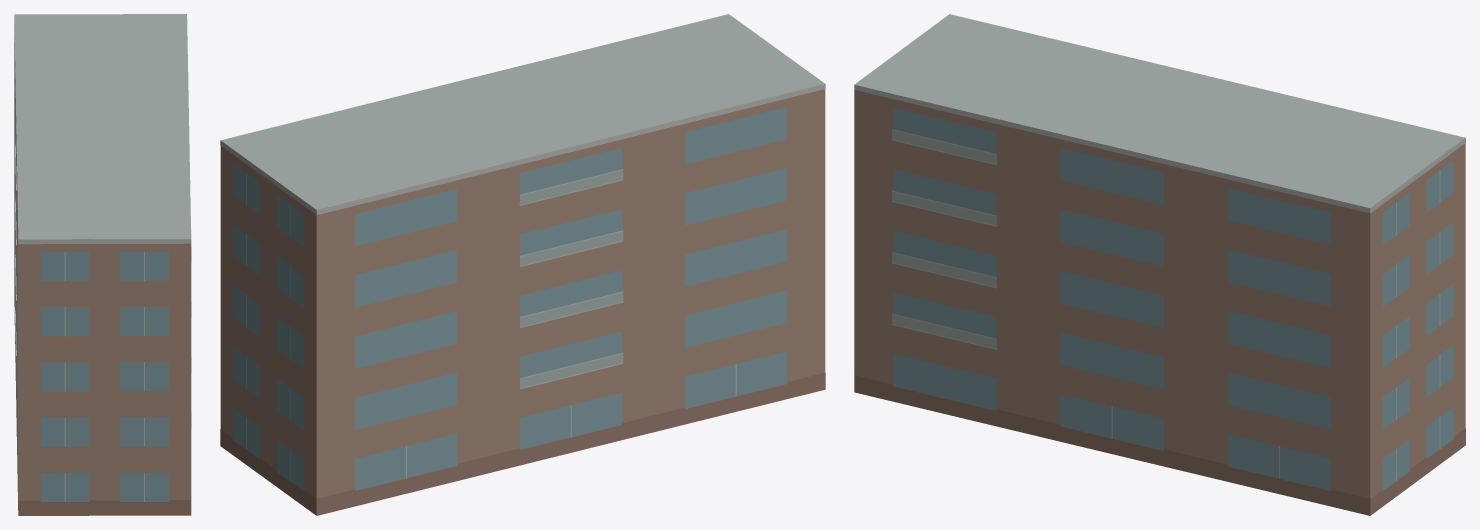
File: survey-upis-32657218.glb
3 renders of one model, left to right at view 1: azimuth 30°, elevation 25°; view 2: azimuth 150°, elevation 25°; view 3: azimuth 270°, elevation 25°, orthographic. The views are drawn at different scales.
Visible parts, largest first — view 1: survey-upis-32657218.tmp; view 2: survey-upis-32657218.tmp; view 3: survey-upis-32657218.tmp.
Part boxes in pixels (box(x1,y1,x2,y2)): survey-upis-32657218.tmp: box(14, 14, 191, 515); survey-upis-32657218.tmp: box(220, 14, 825, 515); survey-upis-32657218.tmp: box(854, 14, 1465, 515).
Bounding box in the file's own units: 19.79 × 14.6 × 26.31.
